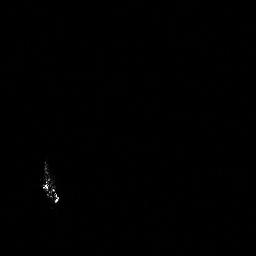ship: (38, 158, 63, 206)
